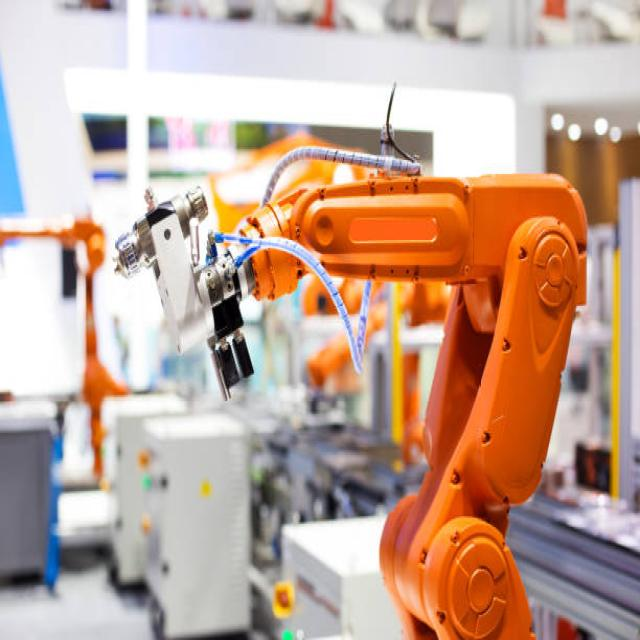Robotic-arm: (231, 161, 592, 640)
